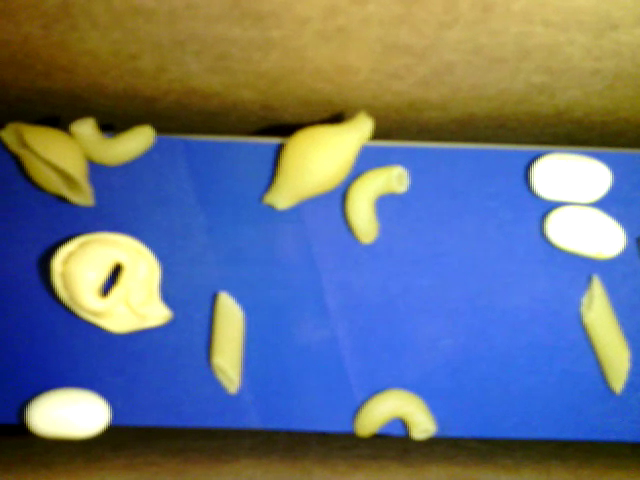elbow: (344, 164, 411, 244), (69, 115, 157, 167), (353, 388, 438, 439)
penne: (580, 273, 632, 394), (209, 287, 247, 396)
shell: (261, 109, 374, 211), (1, 123, 95, 207)
tortellini: (50, 230, 174, 331)
